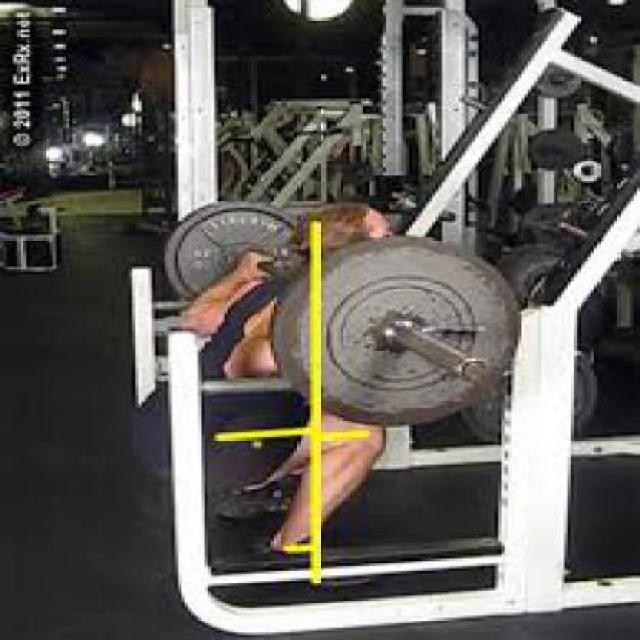barbell: (265, 223, 529, 425)
